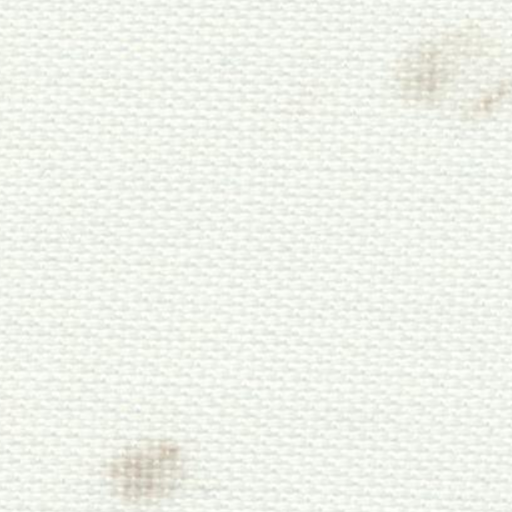WuZi: (386, 16, 508, 119), (88, 414, 200, 506)
